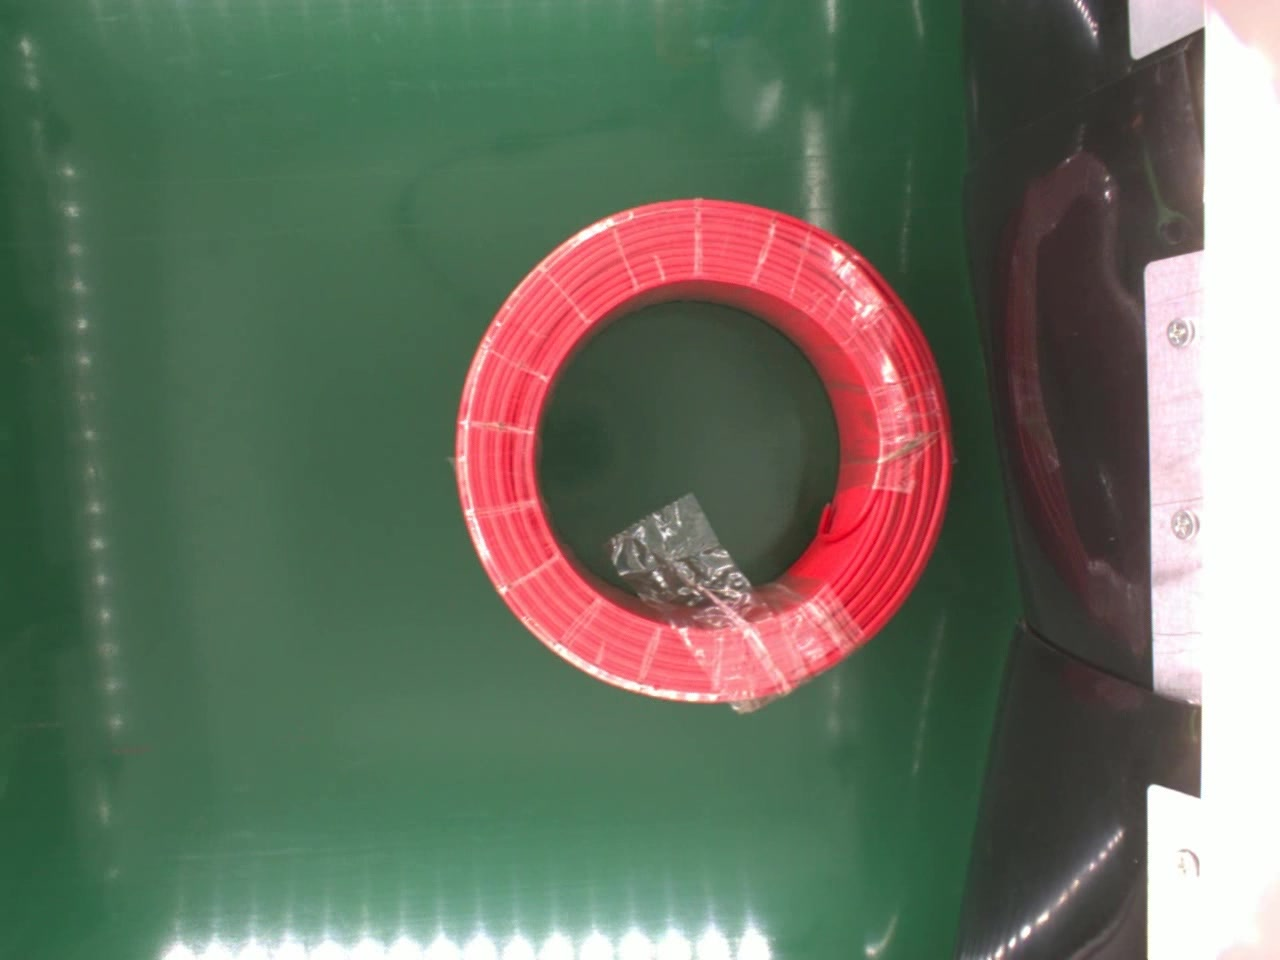red: (447, 193, 956, 705)
